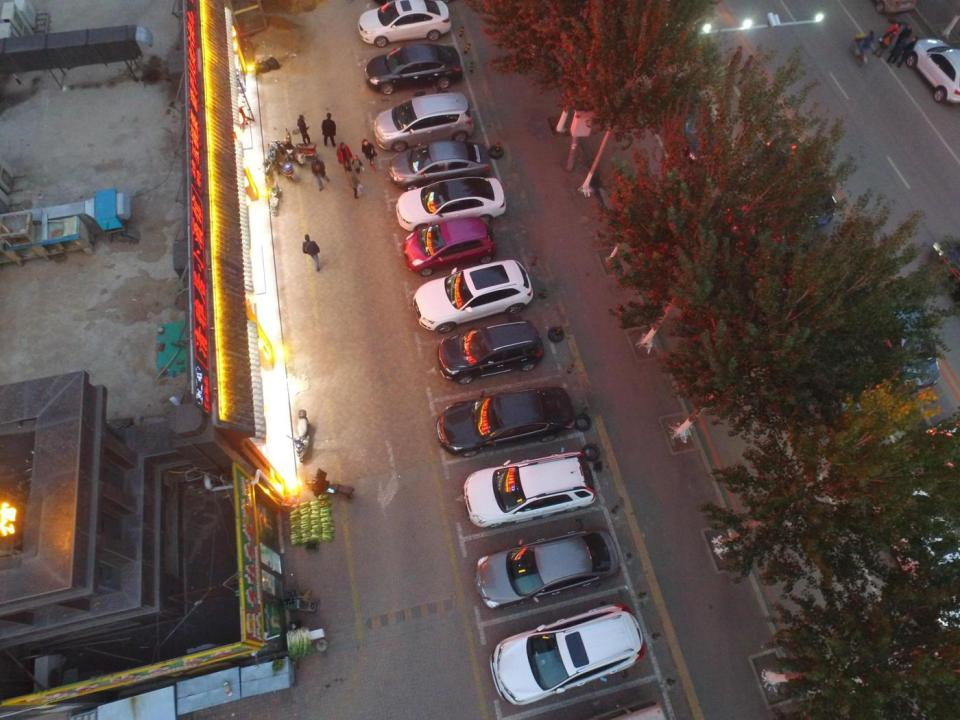car: (487, 604, 643, 711), (475, 526, 621, 609), (463, 452, 597, 530), (437, 385, 576, 457), (892, 478, 960, 621), (412, 258, 533, 335), (754, 128, 836, 231), (437, 316, 546, 384), (654, 82, 726, 165), (374, 95, 474, 154), (391, 138, 493, 192), (400, 219, 494, 277), (397, 179, 507, 224), (364, 42, 460, 92), (356, 0, 452, 46), (908, 34, 960, 103)
